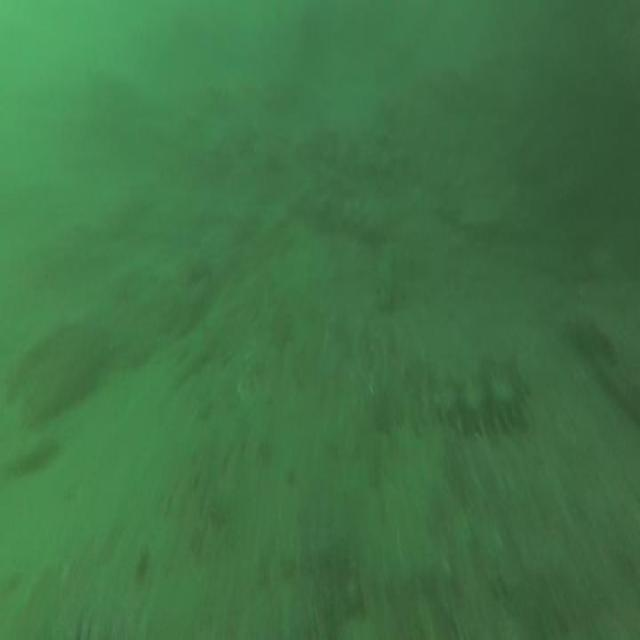holothurian: (440, 378, 523, 439), (377, 248, 395, 311)
